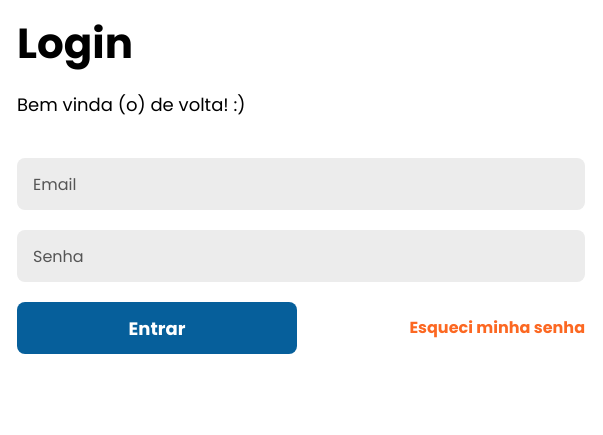
Página de Login › deve mostrar erro de validação quando o email for inválido
Type "invalid-email" into the field with placeholder "Email".
click(301, 184); type("invalid-email")  # box x1=17 y1=158 x2=585 y2=210
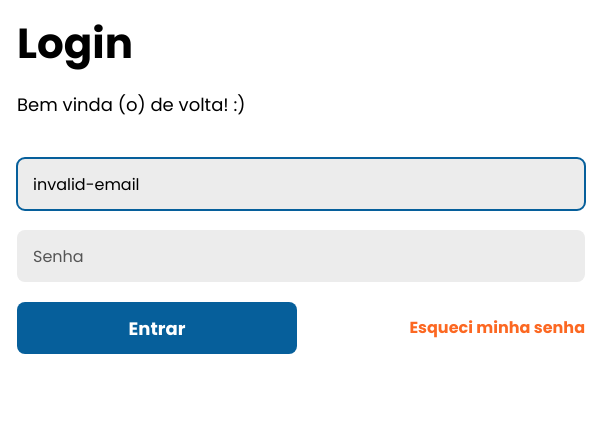
Click the button "Entrar".
click(157, 328)  # box x1=17 y1=302 x2=297 y2=354
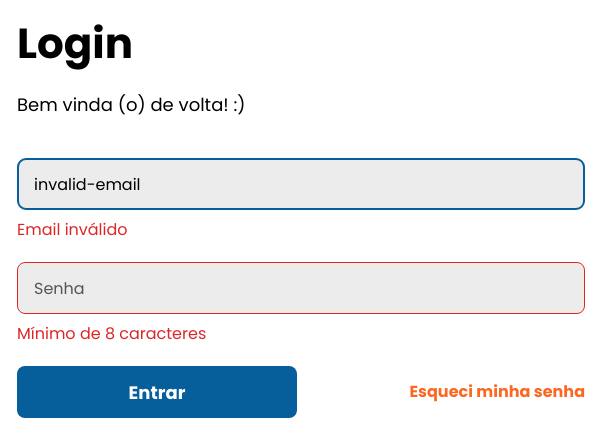
Result: the text "Email inválido" is shown at x1=17 y1=218 x2=128 y2=241
